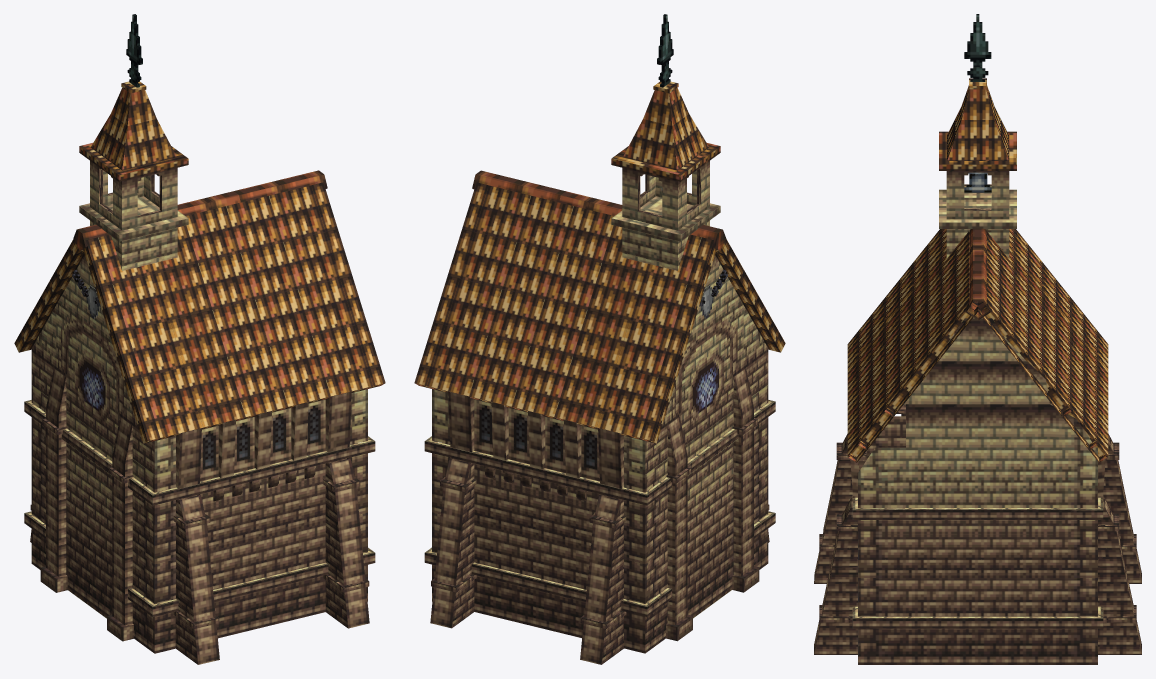
File: ObjMD_Church_A.FBX
3 renders of one model, left to right at view 1: azimuth 30°, elevation 25°; view 2: azimuth 150°, elevation 25°; view 3: azimuth 270°, elevation 25°, orthographic. The views are drawn at different scales.
Visible parts, largest first — view 1: ObjMD_Church_A; view 2: ObjMD_Church_A; view 3: ObjMD_Church_A.
Boxes of the visible parts, x1=… form: ObjMD_Church_A: x1=14, y1=14, x2=385, y2=664; ObjMD_Church_A: x1=414, y1=14, x2=785, y2=664; ObjMD_Church_A: x1=814, y1=14, x2=1141, y2=664.
Size of the model in its own units: 567 by 1307 by 683.
